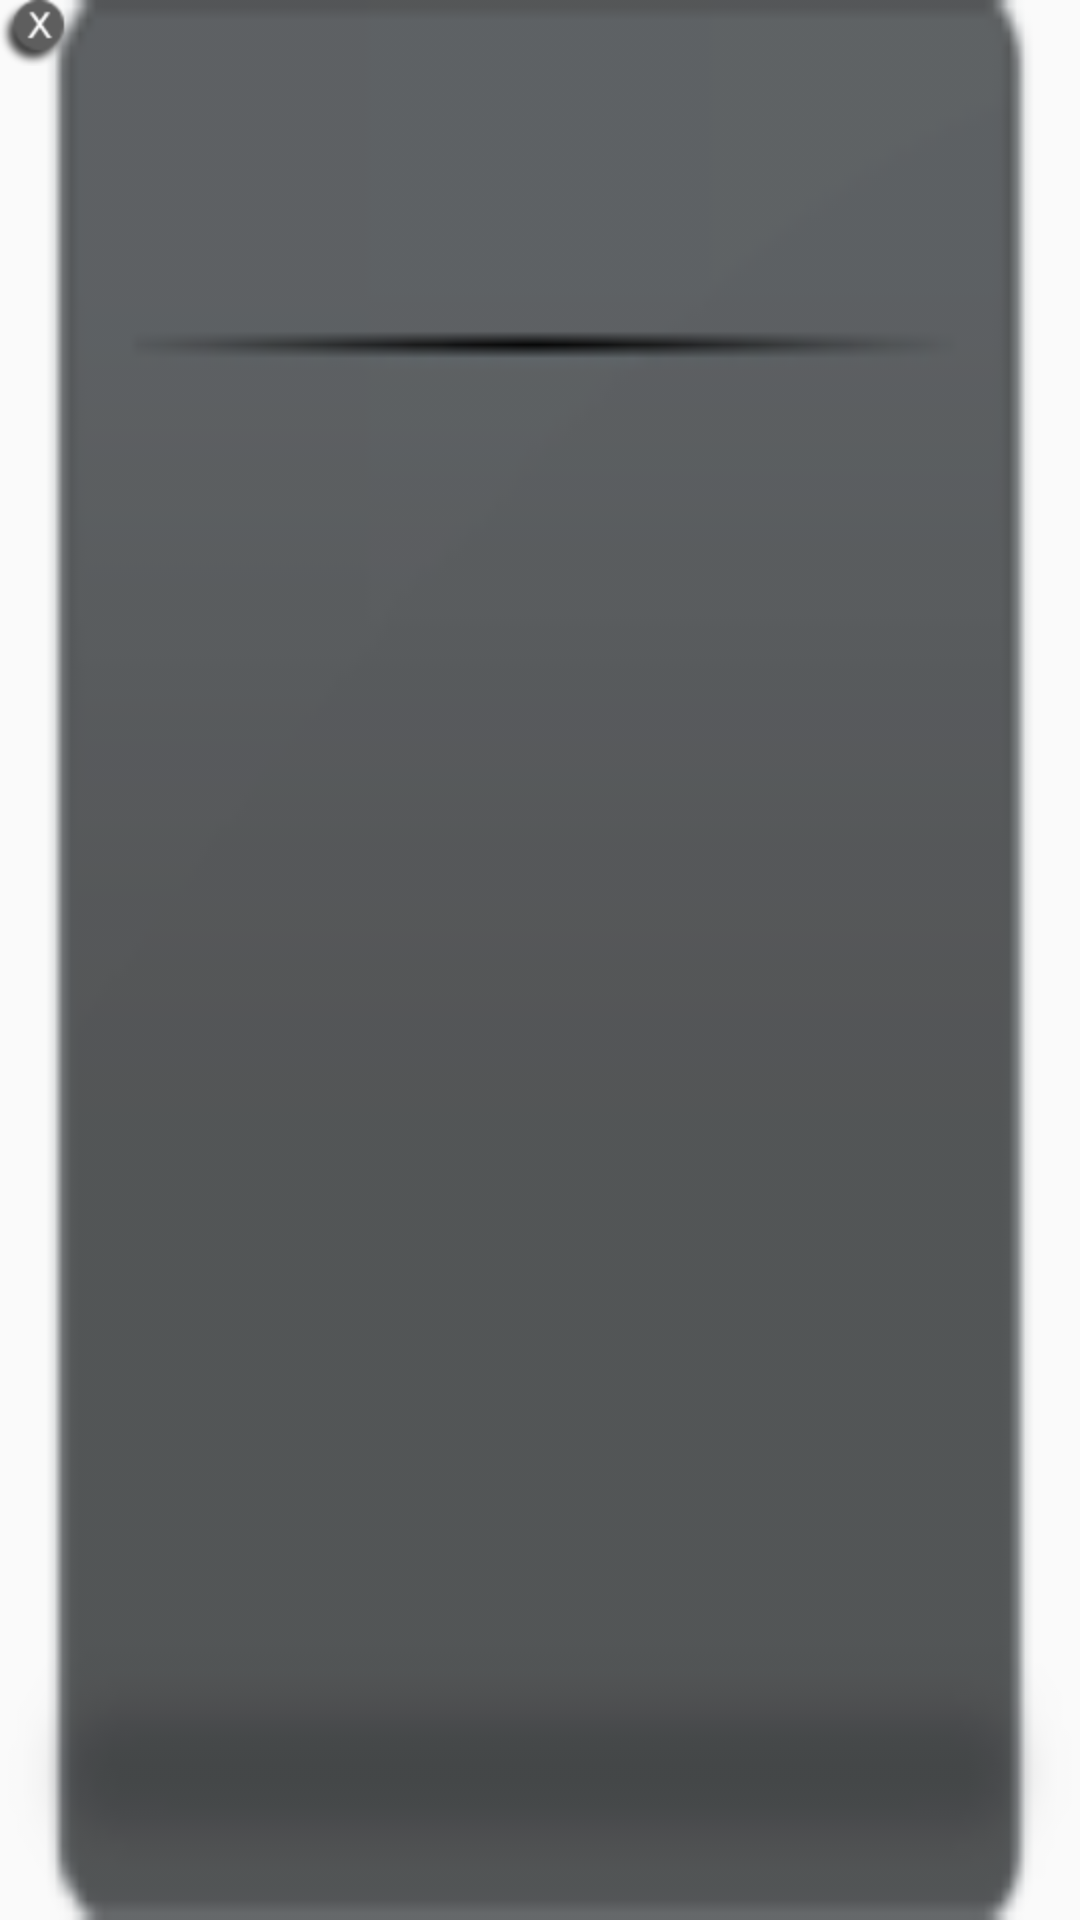

Named icons in this screenshot (1080×1920) and their centers, (x=x, y=y):
one city delete change: (x=33, y=33)
